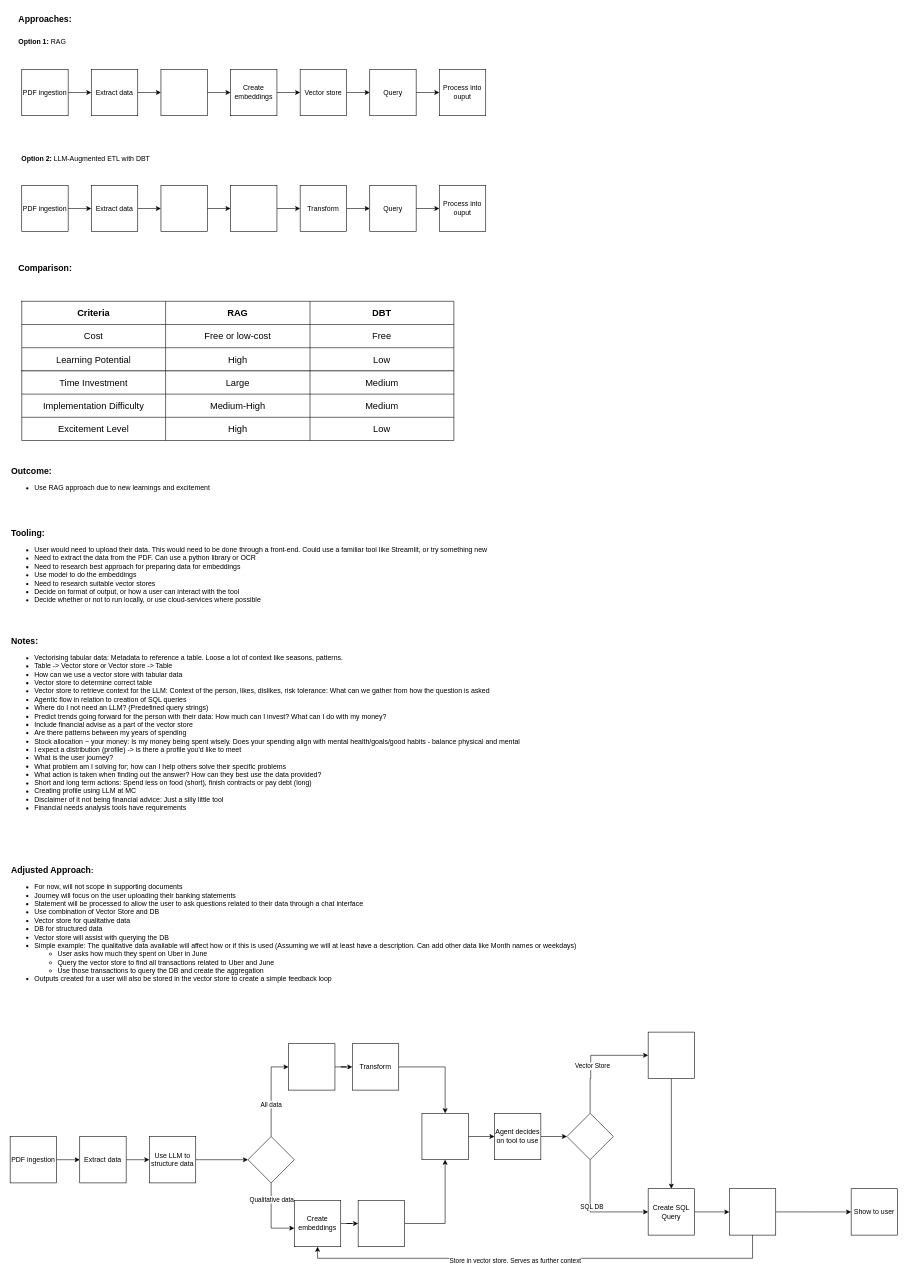
The diagram is 908 pixels wide and 1274 high, and some of its shapes have lost their labels. The shapes that lost their labels are listed below. From the top down, each one's centre as x and y in pixels, then its label:
At (x=183, y=92): "Chunking and processing".
At (x=183, y=208): "Ask LLM to structure data".
At (x=253, y=208): "Store in database".
At (x=311, y=1066): "Store in DB".
At (x=671, y=1055): "Retrieve related transactions".
At (x=444, y=1136): "Receive query from the user".
At (x=381, y=1223): "Store in vector store".
At (x=752, y=1211): "Format into output using LLM".
